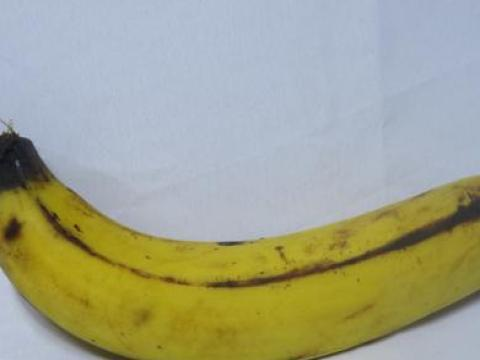ripe: (0, 104, 479, 359)
